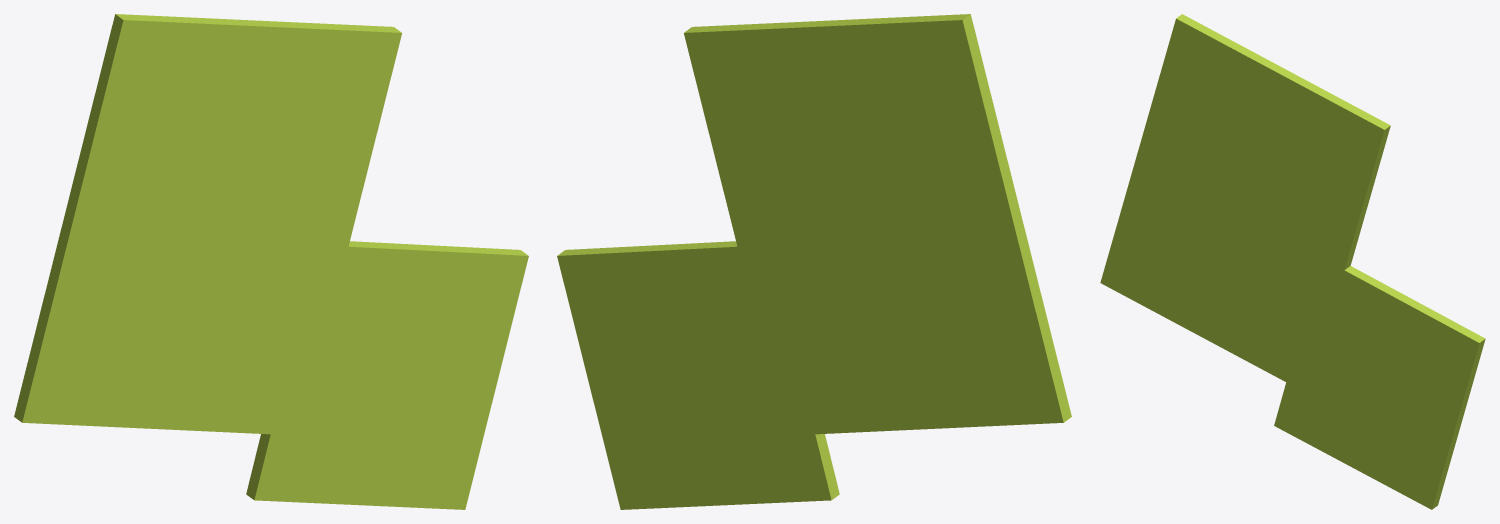
3 views of the same model, side by side, from view 1: azimuth 30°, elevation 25°; view 2: azimuth 150°, elevation 25°; view 3: azimuth 330°, elevation 25° (orthographic). The views are drawn at different scales.
Parts seen in each view (by area): view 1: osm-way27917482-F2; view 2: osm-way27917482-F2; view 3: osm-way27917482-F2.
Part boxes in pixels (box(x1,y1,x2,y2)): osm-way27917482-F2: box(14, 14, 528, 509); osm-way27917482-F2: box(557, 14, 1071, 509); osm-way27917482-F2: box(1100, 14, 1485, 509).
Size of the model in its own units: 5.32 by 5.75 by 0.15.
